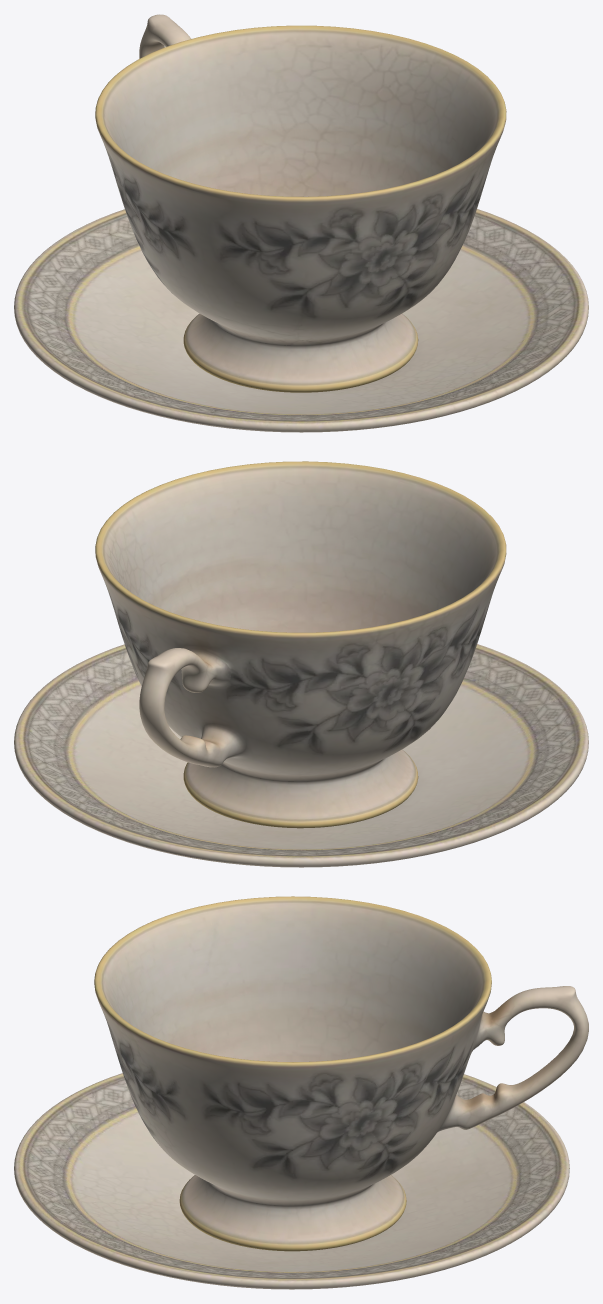
File: xicara-porcelana.glb
The picture shows the model from 3 angles, top to bottom: view 1: azimuth 30°, elevation 25°; view 2: azimuth 150°, elevation 25°; view 3: azimuth 270°, elevation 25°; orthographic projection. The views are drawn at different scales.
Visible parts, largest first — view 1: tea_cup, tea_saucer; view 2: tea_cup, tea_saucer; view 3: tea_cup, tea_saucer.
Part boxes in pixels (box(x1,y1,x2,y2)): tea_cup: box(95, 14, 506, 392); tea_saucer: box(14, 209, 588, 432); tea_cup: box(95, 461, 506, 828); tea_saucer: box(14, 644, 588, 867); tea_cup: box(94, 896, 588, 1251); tea_saucer: box(14, 1073, 569, 1289).
Size of the model in its own units: 0.1486 by 0.0704 by 0.1537.
Materials: 2 (2 with a texture image).
